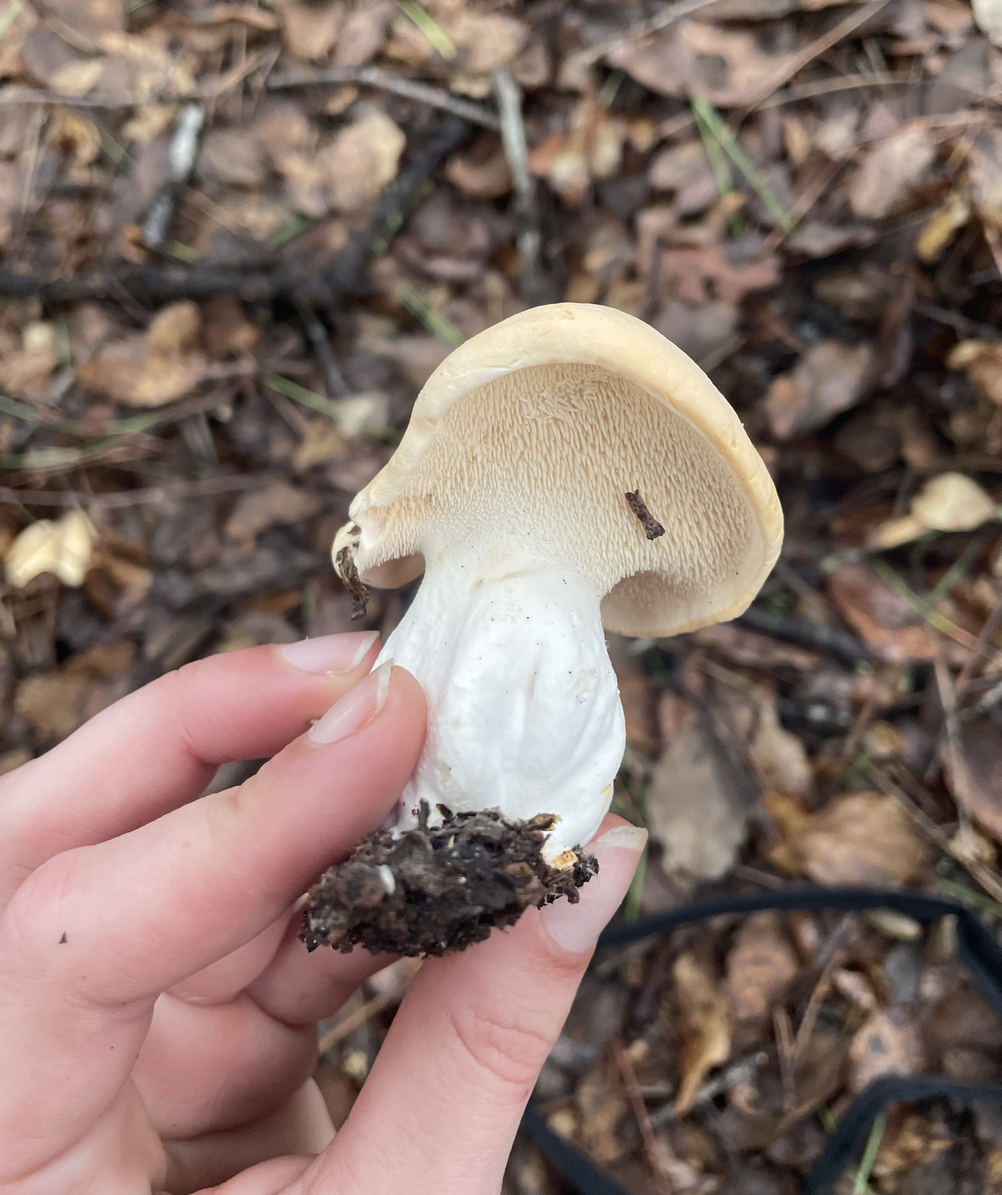stem: (381, 562, 625, 859)
underside: (358, 362, 758, 637)
